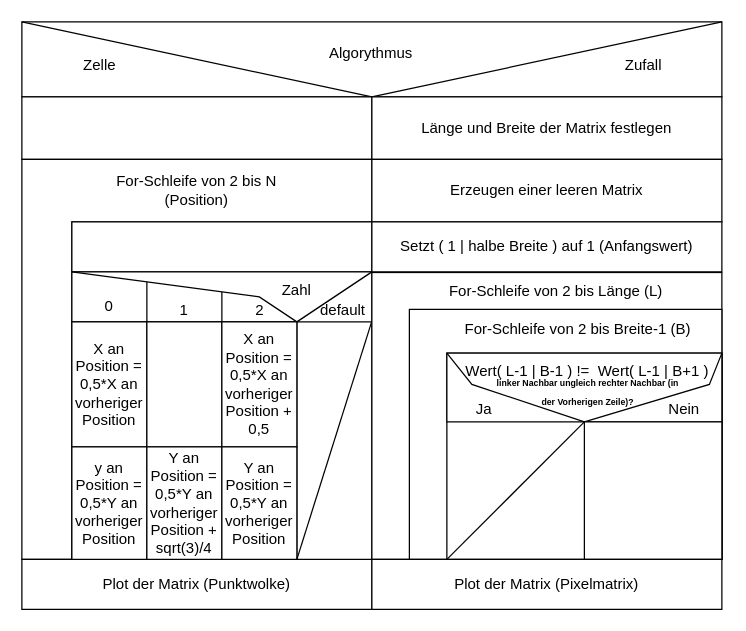
The diagram is 746 pixels wide and 631 high, and some of its shapes have lost their labels. The shapes that lost their labels are listed below. From the top down, each one's centre as x and y in pixels, then its label:
At [196,127]: "Initialisierung der NxN Matrix mit NULL (X und Y Array)".
At [221,246]: "Zufallzahl von 0 bis 2".
At [184,384]: "X an Position = 0,5*X an vorheriger Position + 0,25".
At [652,490]: "Wert( L | B ) = 1".
